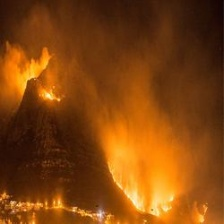fire: (5, 68, 203, 223)
